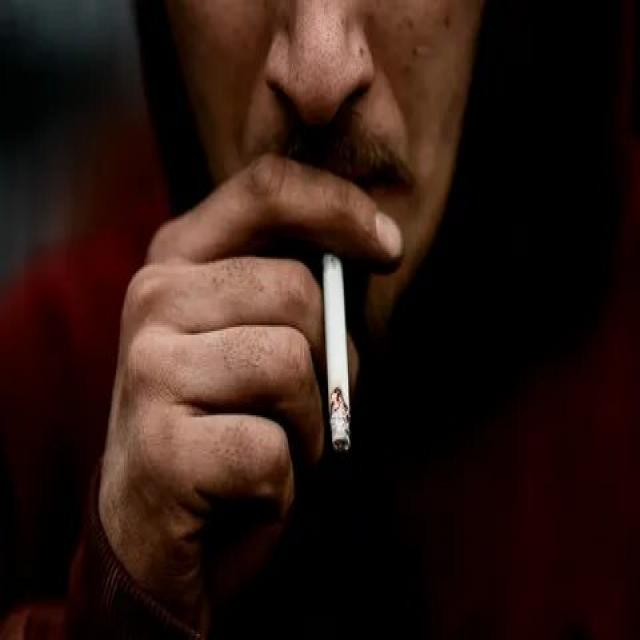cigarette: (313, 241, 355, 461)
